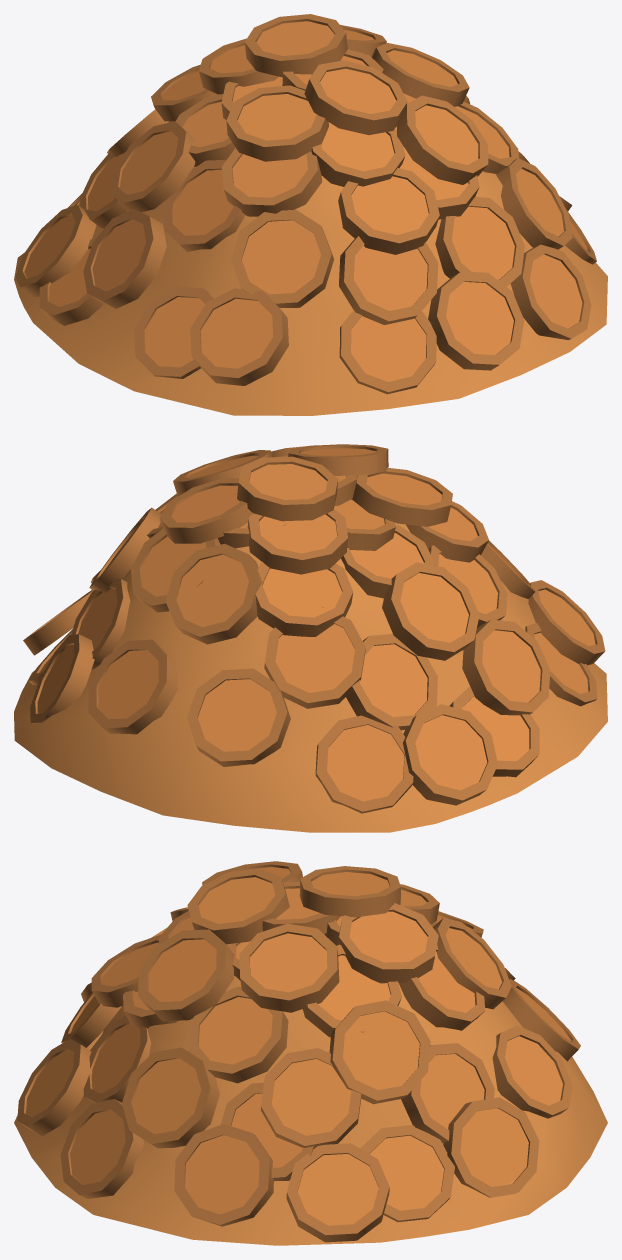
The model's file is Cauldron_01_GoldPile_01.fbx.
3 views of the same model, one above another, from view 1: azimuth 30°, elevation 25°; view 2: azimuth 150°, elevation 25°; view 3: azimuth 270°, elevation 25° (orthographic).
Parts seen in each view (by area): view 1: Cauldron_01_GoldPile_01; view 2: Cauldron_01_GoldPile_01; view 3: Cauldron_01_GoldPile_01.
Part boxes in pixels (x1,y1,x2,y2): Cauldron_01_GoldPile_01: (14,14,607,415); Cauldron_01_GoldPile_01: (14,444,607,832); Cauldron_01_GoldPile_01: (14,861,607,1245).
Bounding box in the file's own units: 0.2532 × 0.1158 × 0.2506.
